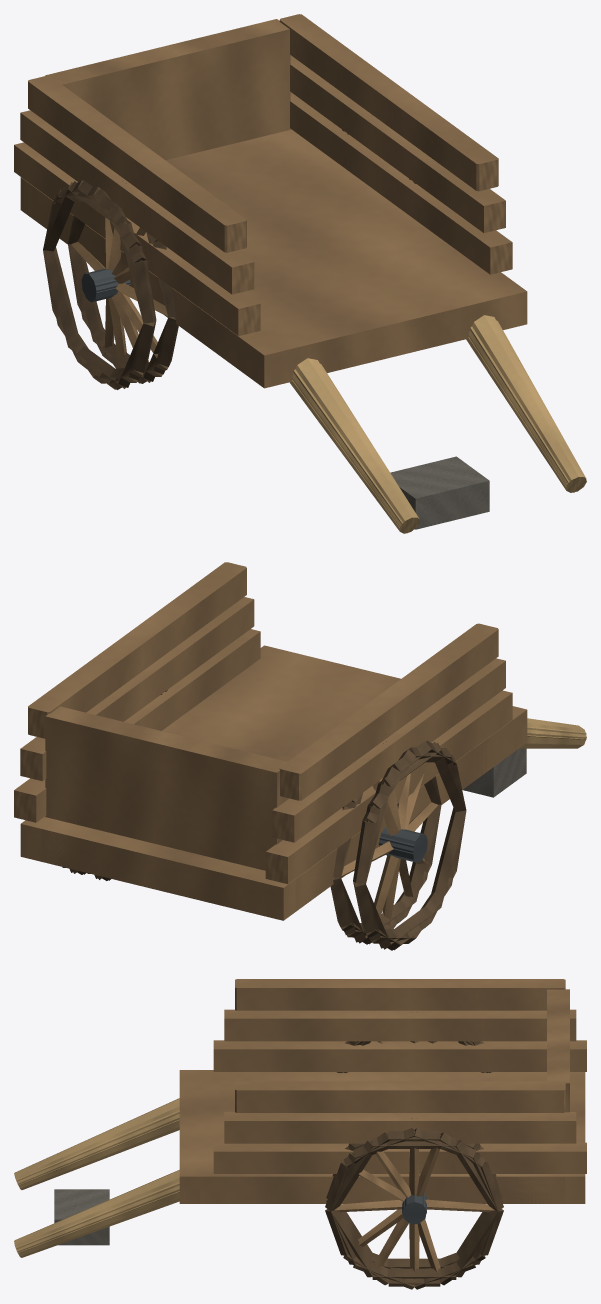
The model's file is BrokenCart.fbx.
3 renders of one model, top to bottom at view 1: azimuth 30°, elevation 25°; view 2: azimuth 150°, elevation 25°; view 3: azimuth 270°, elevation 25°, orthographic. The views are drawn at different scales.
Visible parts, largest first — view 1: BrokenCartDetail0, BrokenCartDetail1, BrokenCartDetail2; view 2: BrokenCartDetail0, BrokenCartDetail1, BrokenCartDetail2; view 3: BrokenCartDetail0, BrokenCartDetail1, BrokenCartDetail2.
Part boxes in pixels (left/top/right/bottom): BrokenCartDetail0: left=15, top=14, right=586, bottom=533; BrokenCartDetail1: left=14, top=19, right=586, bottom=533; BrokenCartDetail2: left=43, top=133, right=583, bottom=529; BrokenCartDetail0: left=15, top=562, right=586, bottom=950; BrokenCartDetail1: left=14, top=597, right=586, bottom=943; BrokenCartDetail2: left=69, top=694, right=586, bottom=949; BrokenCartDetail0: left=14, top=979, right=586, bottom=1286; BrokenCartDetail1: left=15, top=989, right=586, bottom=1289; BrokenCartDetail2: left=18, top=1041, right=497, bottom=1279.
Size of the model in its own units: 179 by 126 by 322.
Materials: 1 (1 with a texture image).
